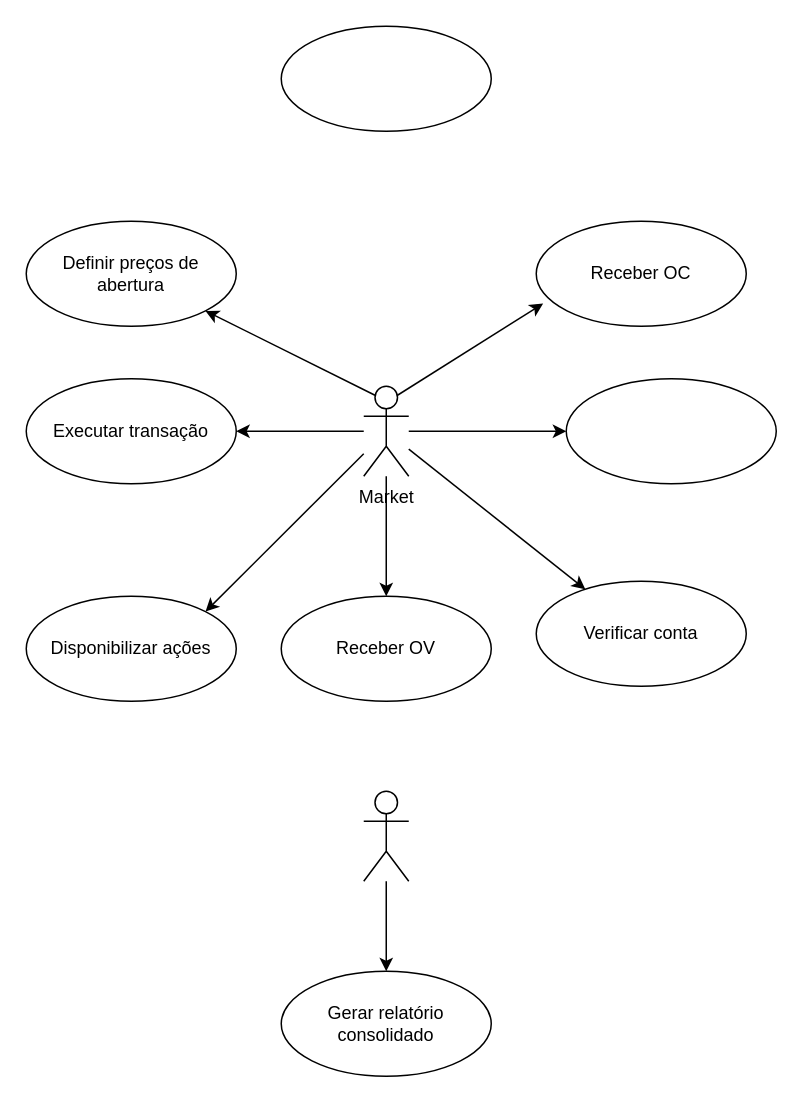
Image size: 803x1103. Some labels were removed from this diagram. Here are the shapes that lost their labels. From the top down, the centre of each, then its label:
point (385, 78): Gerar relatório auditoria
point (670, 430): Match entre OC e OV
point (385, 835): Auditor
